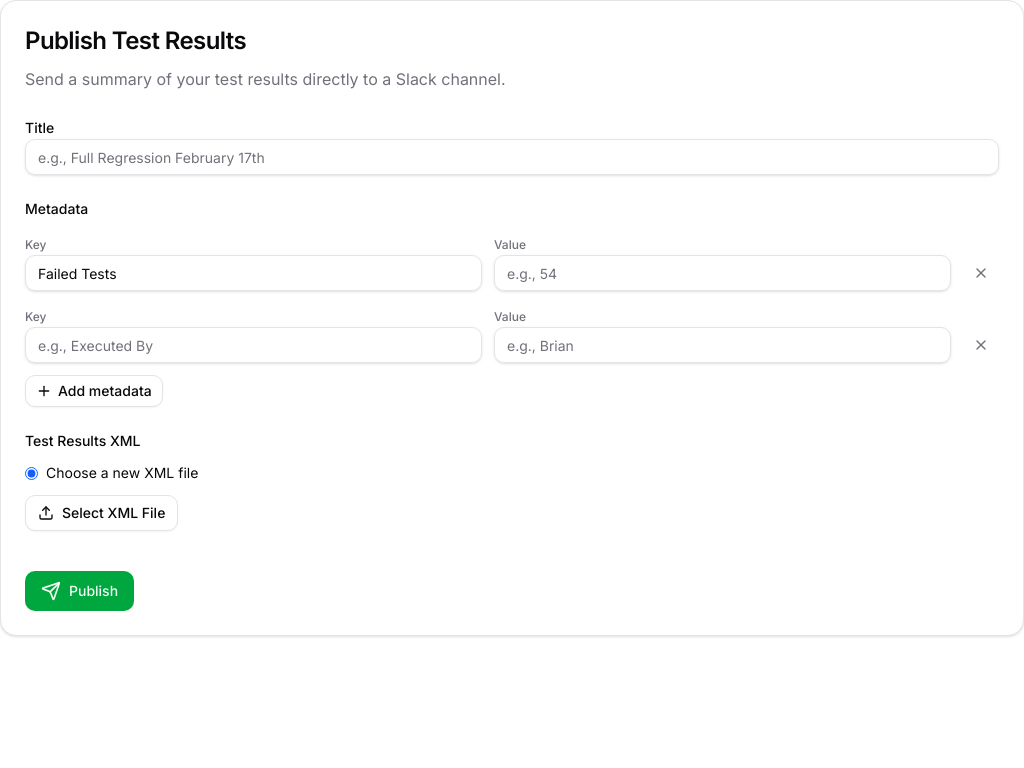
Test: PublishPage › should remove a metadata row when its remove button is clicked
Click the 1st button named "Remove metadata row" at (981, 273), box [963,255,999,291]
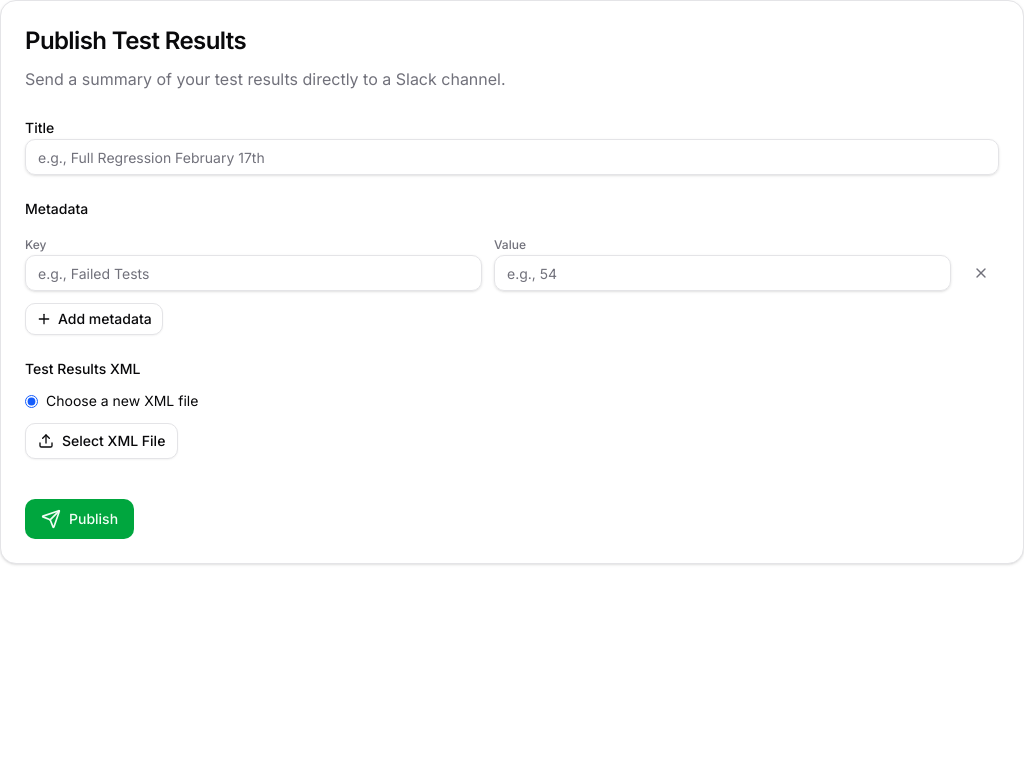
Expected: the text "Value" is shown once, [494,237,526,252]
Expected: the text "Key" is shown once, [25,237,46,252]
